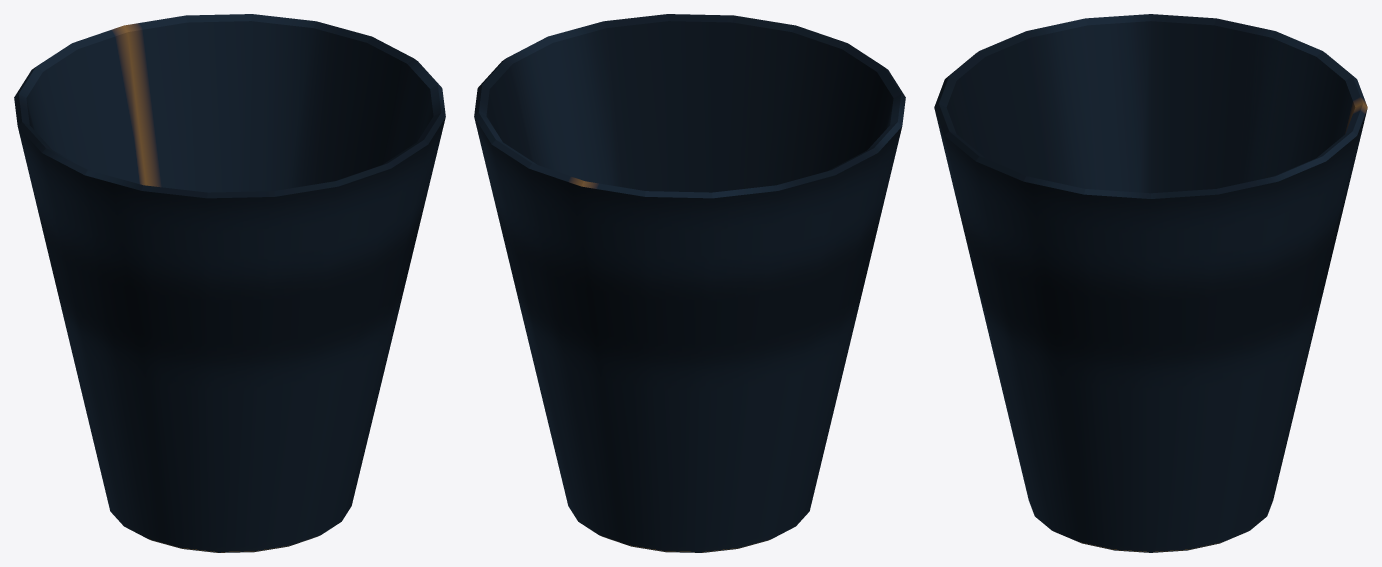
The model's file is SOD_Bin_Asset.fbx.
3 renders of one model, left to right at view 1: azimuth 30°, elevation 25°; view 2: azimuth 150°, elevation 25°; view 3: azimuth 270°, elevation 25°, orthographic.
Parts seen in each view (by area): view 1: SOD_Bin_Asset; view 2: SOD_Bin_Asset; view 3: SOD_Bin_Asset.
Part boxes in pixels (<box>): SOD_Bin_Asset: <box>14,14,445,552</box>; SOD_Bin_Asset: <box>474,14,905,552</box>; SOD_Bin_Asset: <box>934,14,1367,552</box>.
Size of the model in its own units: 47.96 by 48.79 by 47.96.
1 material, 1 textured.
